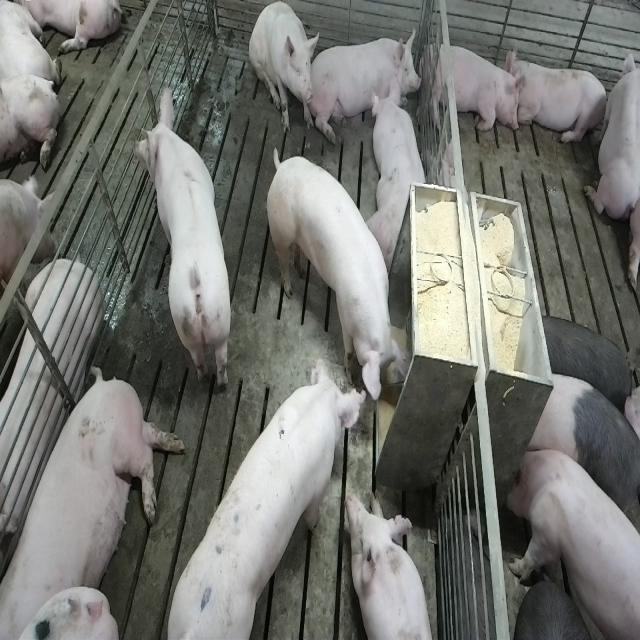Lateral_lying: (3, 362, 187, 636), (0, 258, 103, 545)
Sitting: (249, 3, 318, 136)
Standing: (164, 355, 370, 635), (264, 152, 407, 410), (131, 87, 232, 398), (505, 441, 638, 640), (522, 371, 639, 542), (534, 315, 630, 415), (0, 169, 36, 306)
Sternal_lying: (349, 487, 439, 640), (313, 26, 420, 138), (371, 85, 431, 271), (425, 36, 524, 139), (510, 52, 610, 149), (584, 41, 637, 223)
